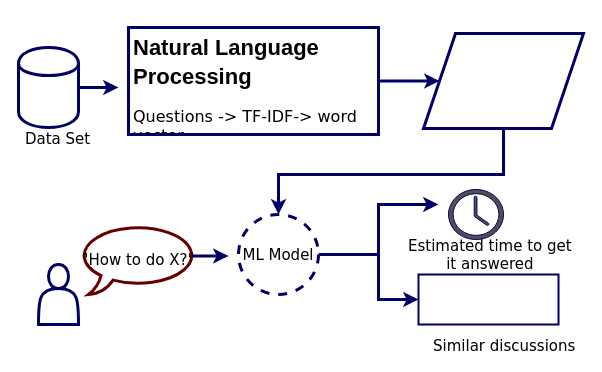
Some shapes in this 602 by 372 pixel diagram are drawn without their labels. Each missing label, with the centre of its shape:
Discussion 1 Discussion 2: the point at 488,299
Use Clustering techniques. KNN, K-Means: the point at 503,81
